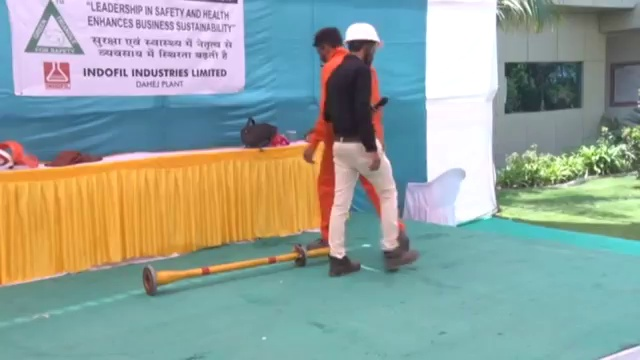helmet: (342, 20, 384, 50)
helmet_off: (308, 24, 344, 64)
helmet_on: (340, 17, 384, 60)
person: (326, 16, 415, 281), (308, 24, 410, 255)
